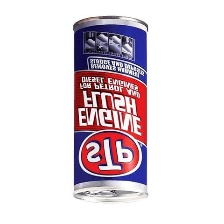cleaning_solution: (66, 12, 153, 205)
